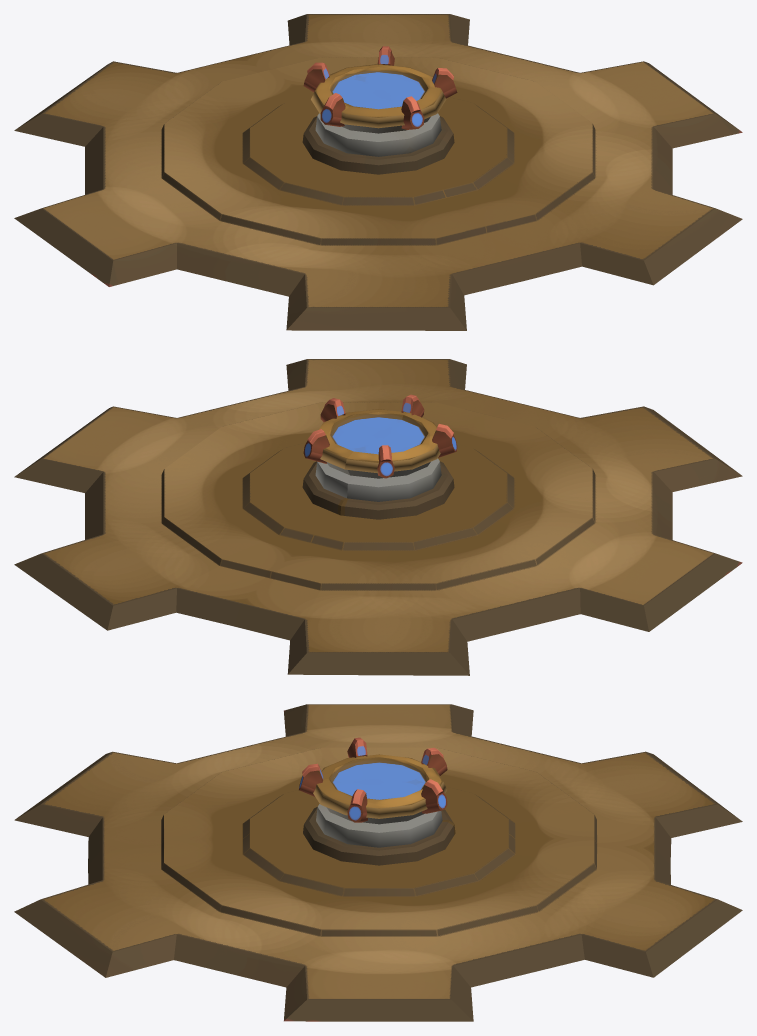
Rendered from magnetcentral_AnvilBase.fbx.
3 views of the same model, one above another, from view 1: azimuth 30°, elevation 25°; view 2: azimuth 150°, elevation 25°; view 3: azimuth 270°, elevation 25° (orthographic).
Visible parts, largest first — view 1: polySurface8; view 2: polySurface8; view 3: polySurface8.
Boxes of the visible parts, x1,y1,x2,y2 form: polySurface8: (14, 14, 742, 330); polySurface8: (14, 359, 742, 675); polySurface8: (14, 704, 742, 1021).
Bounding box in the file's own units: 17.1 × 2.59 × 16.92.
